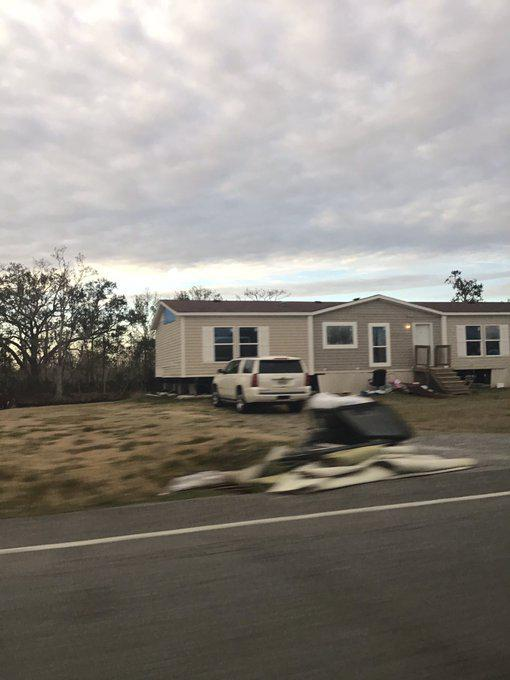minor: (141, 286, 510, 418)
